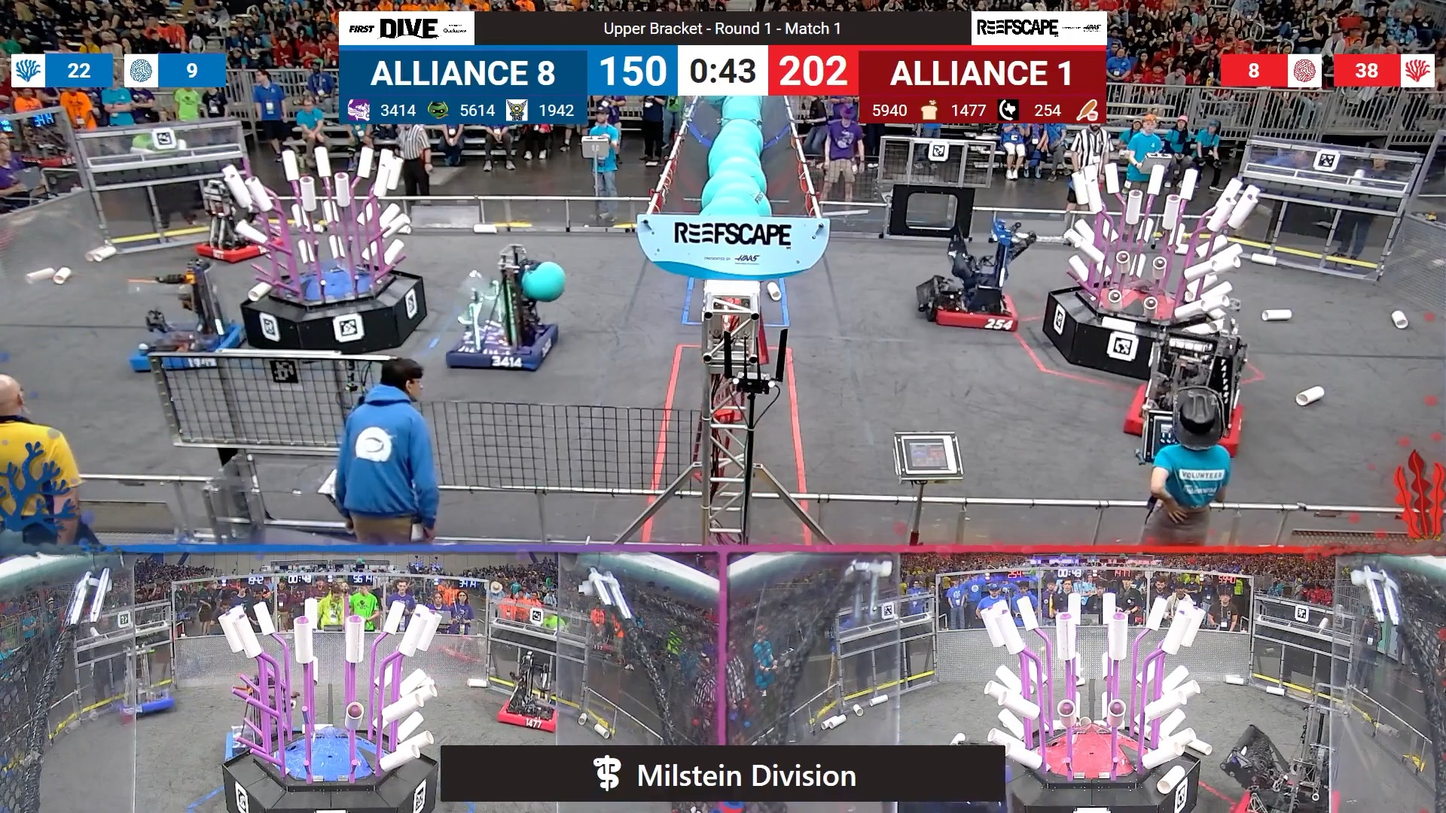bumpers: (1117, 380, 1255, 449), (443, 321, 567, 378), (919, 282, 1030, 341), (122, 327, 247, 375), (1225, 768, 1343, 813), (488, 694, 566, 735), (109, 690, 182, 726), (191, 237, 274, 268)
